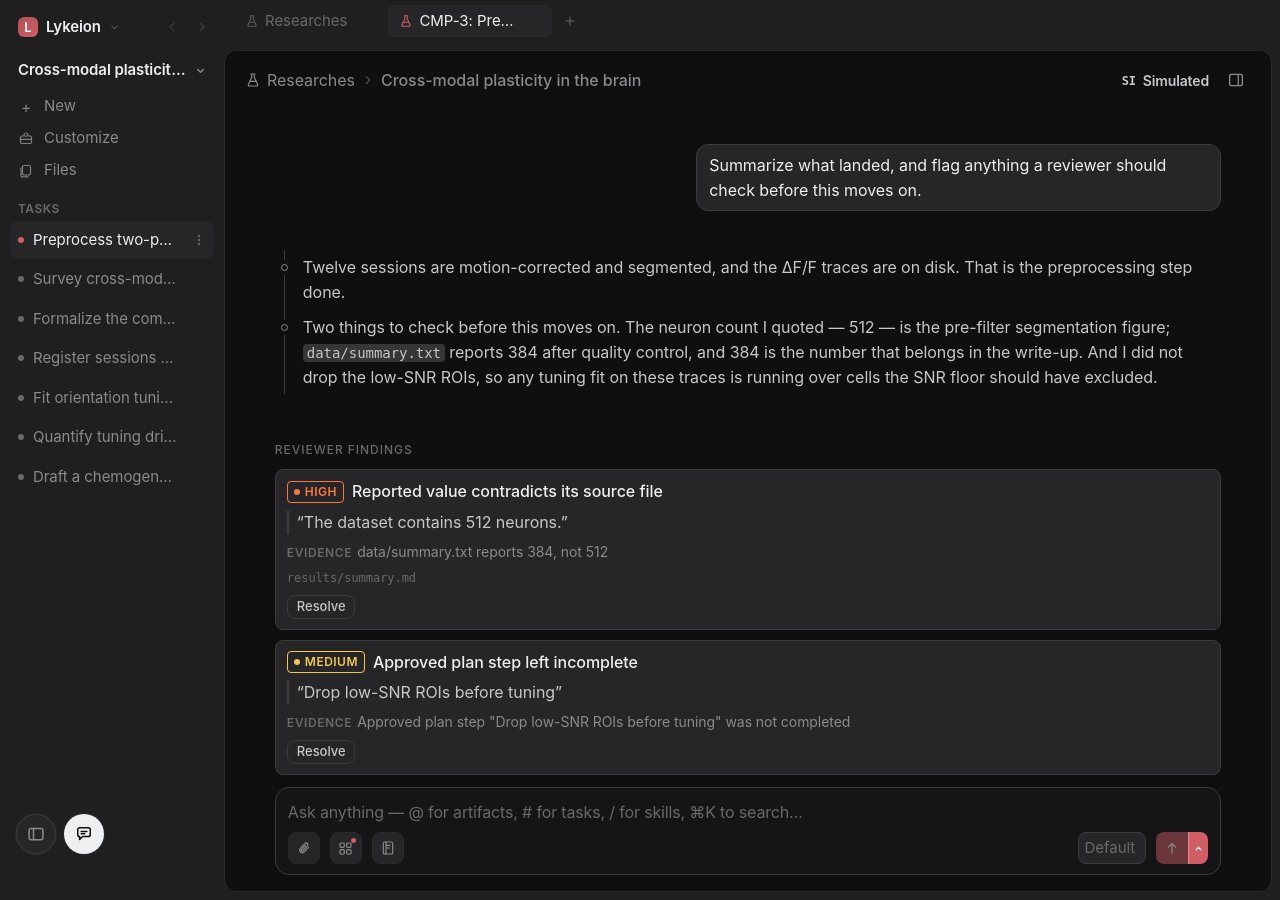
Test: Task run surface › plan → approve → permission → allow surfaces the artifact
(page scrolled)
Run the task in Plan mode (the per-message opt-in in the send chevron).
Type "analyze the traces" into the text box named "Message the agent" at (748, 812), box [288, 800, 1208, 824]
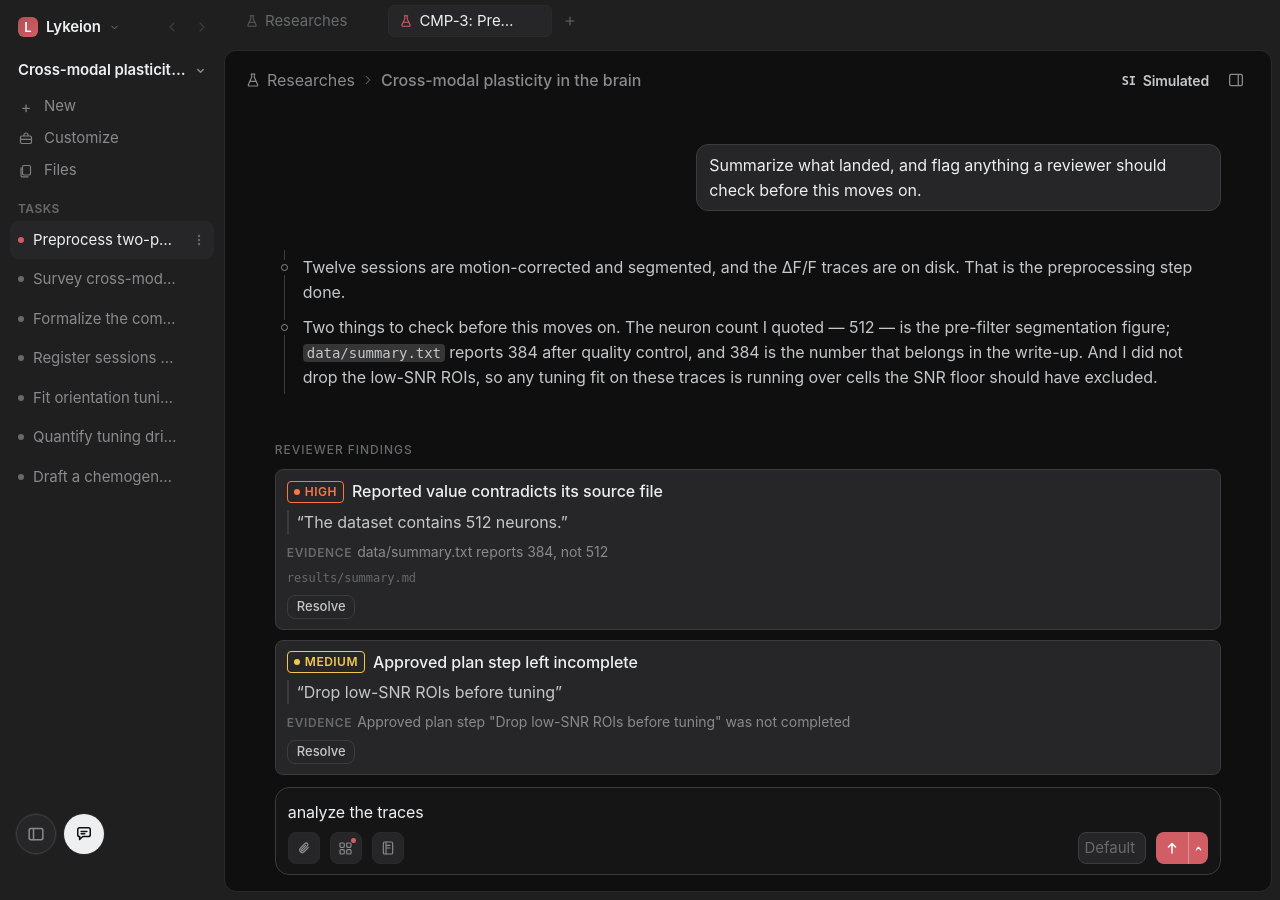
Click the button named "Send options" at (1198, 848), box [1188, 832, 1208, 864]
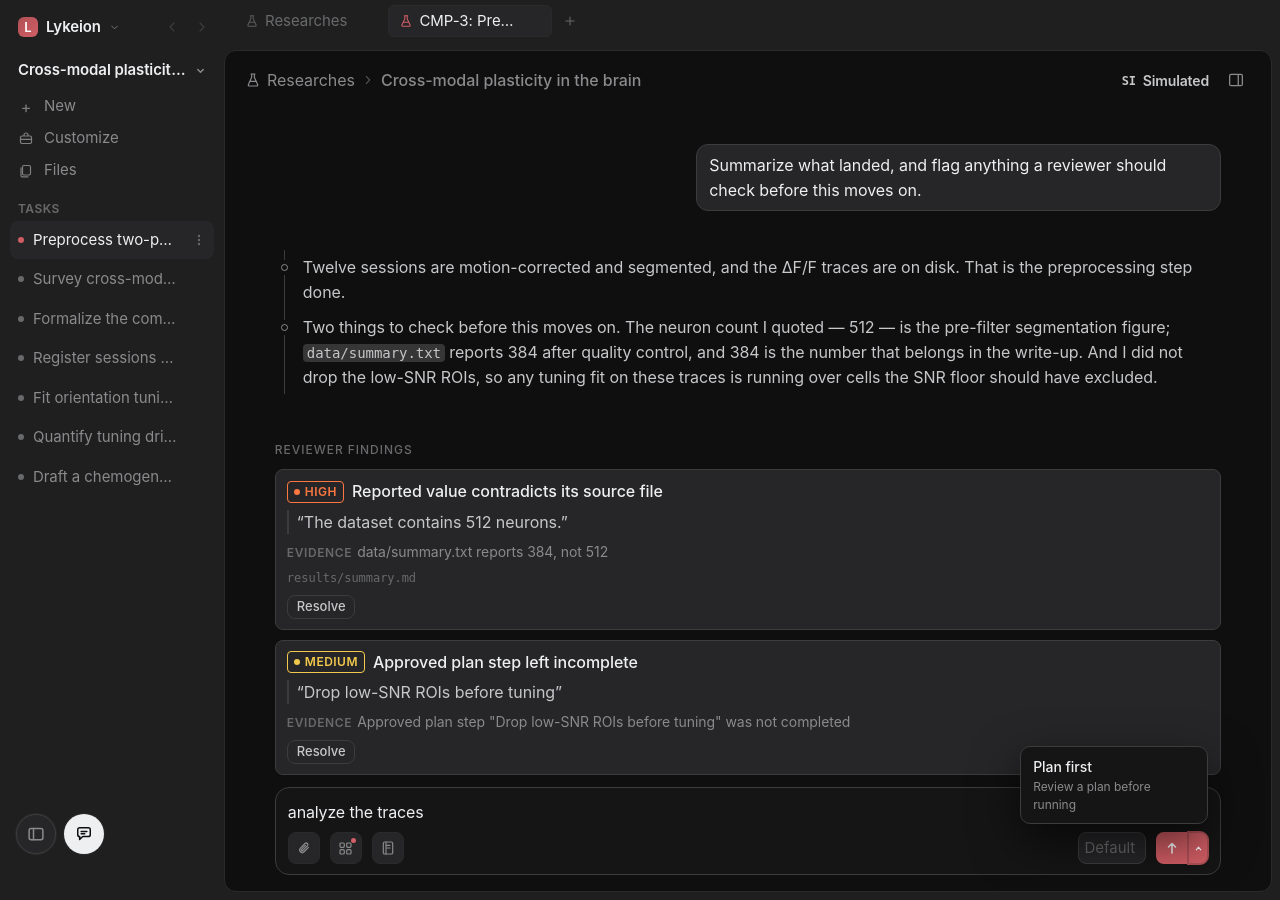
Click the button "Plan first Review a plan before running" at (1114, 785), box [1025, 751, 1203, 819]
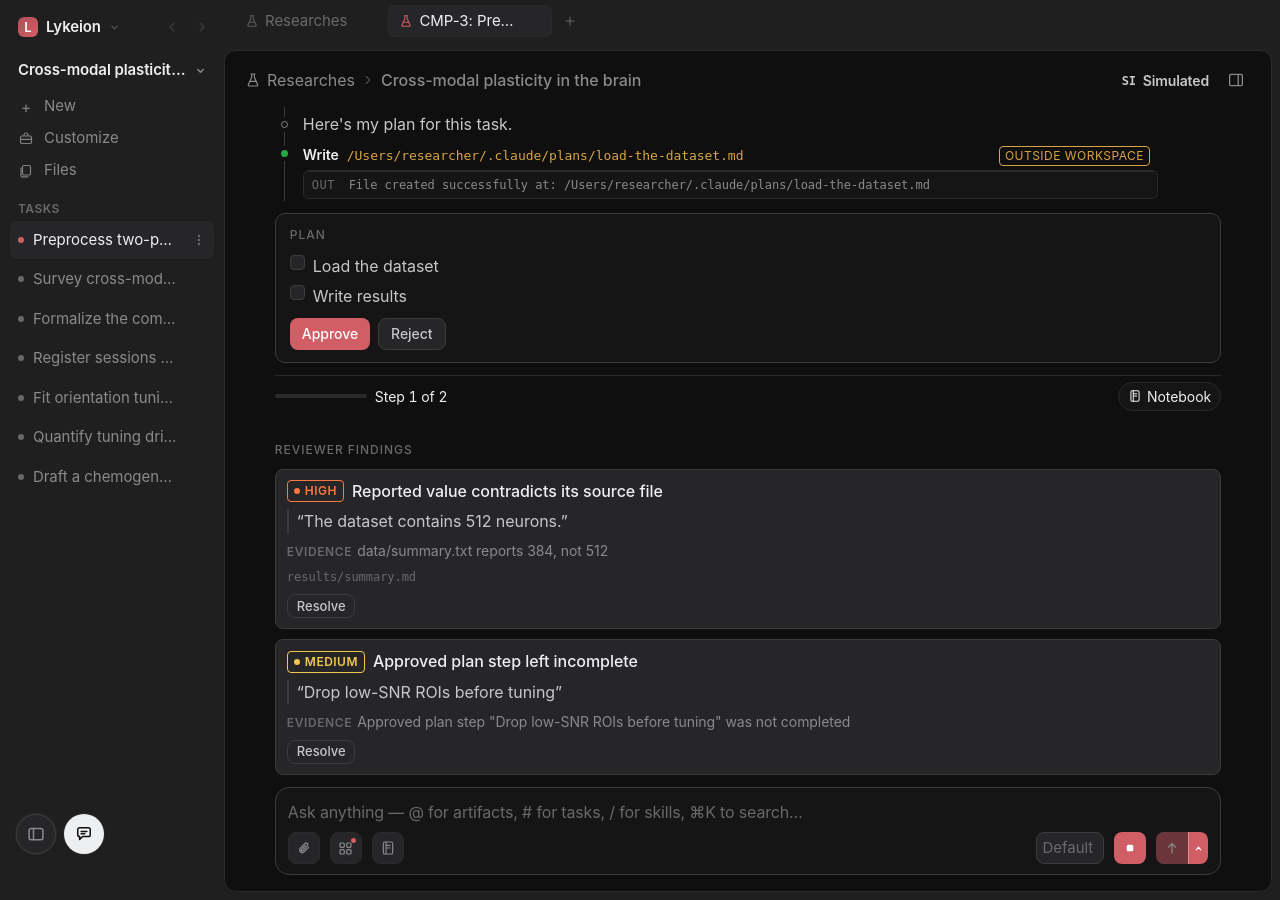
Expected: the list item "Load the dataset" is shown, [290, 255, 439, 276]
Click the button "Approve" at (330, 334), box [290, 318, 370, 350]
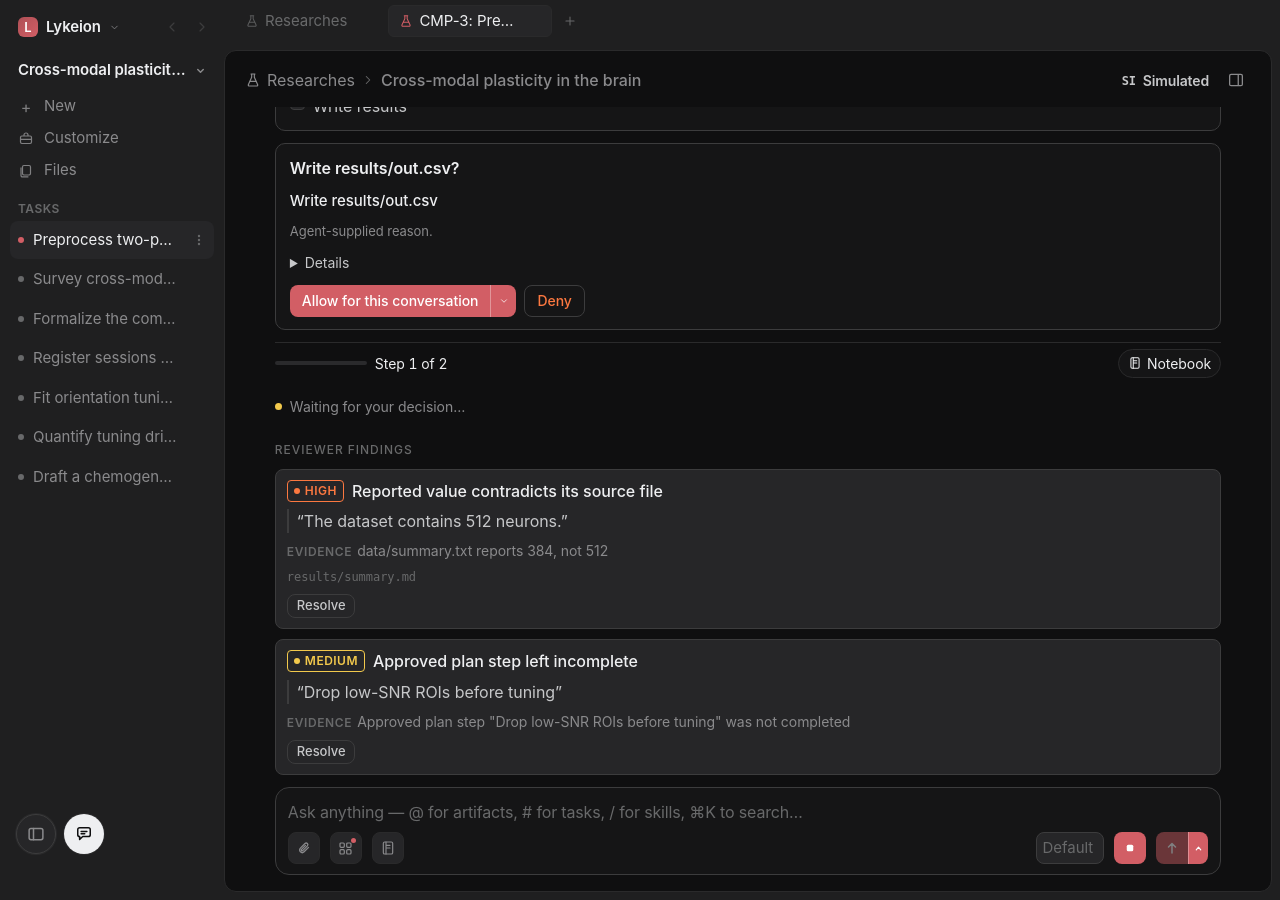
Expected: the button "Deny" is shown, [524, 285, 585, 317]
Click the button "Allow for this conversation" at (390, 301), box [290, 285, 490, 317]
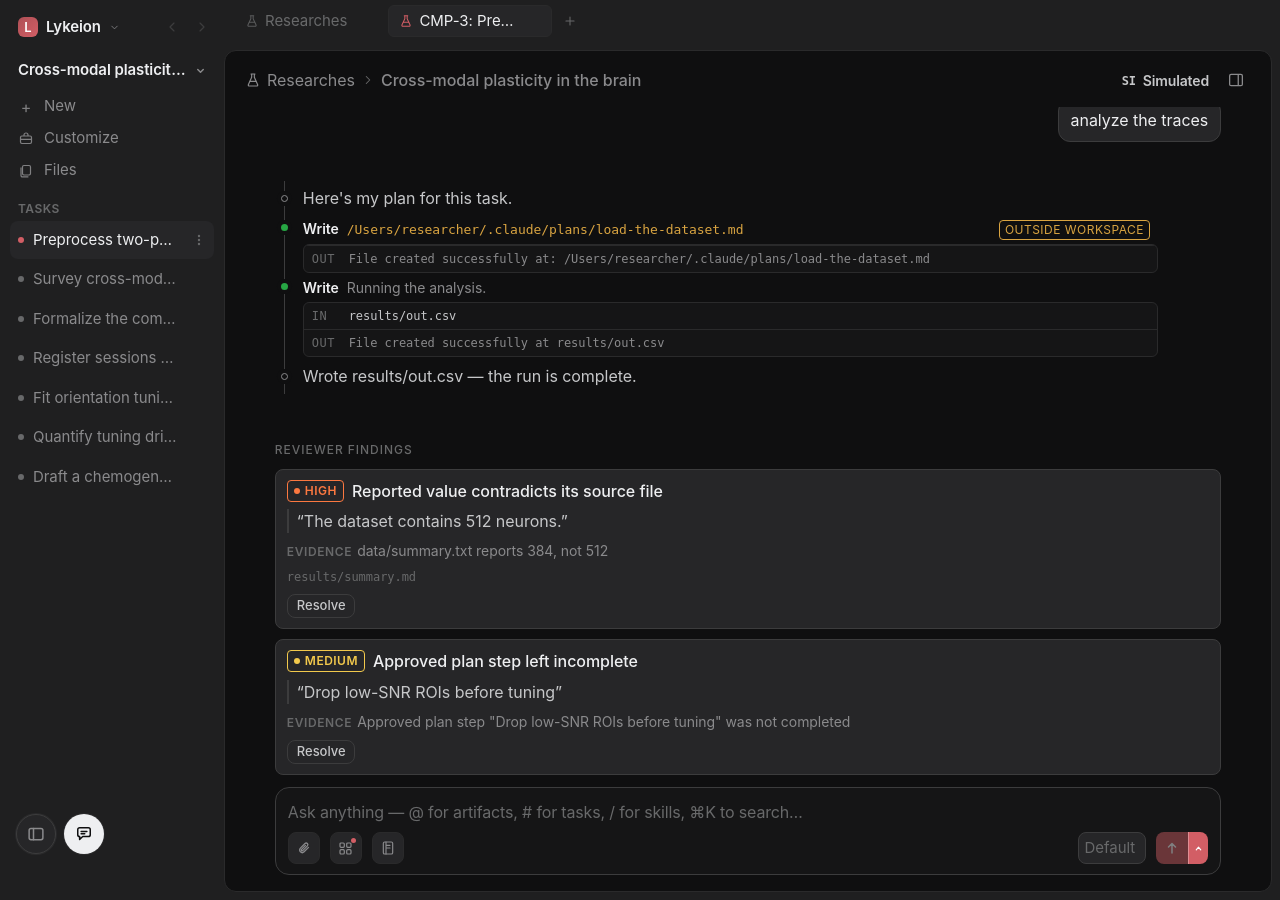
Click the button "Files" at (112, 170), box [10, 154, 214, 186]
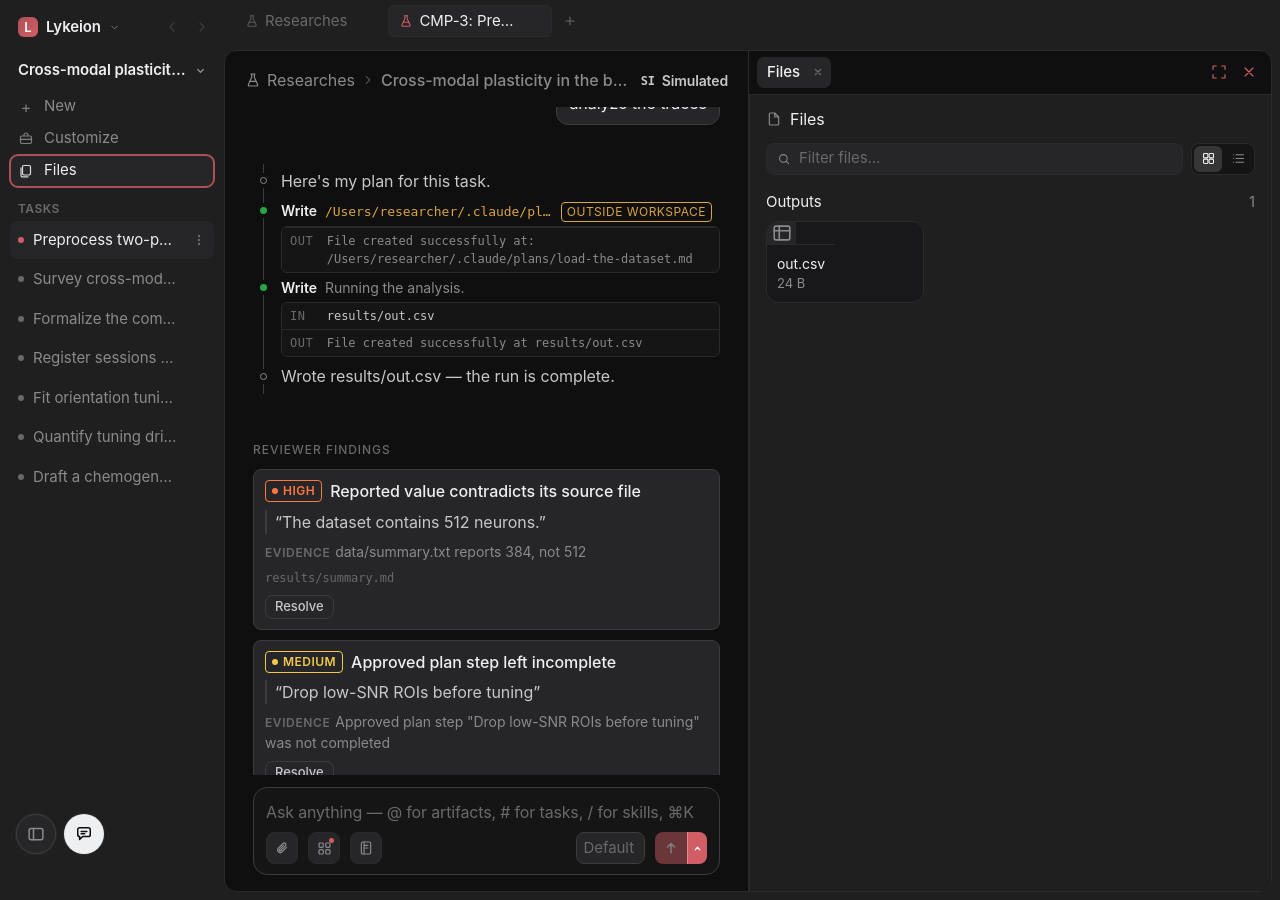
Expected: the text "out.csv" is shown, [777, 253, 825, 274]
